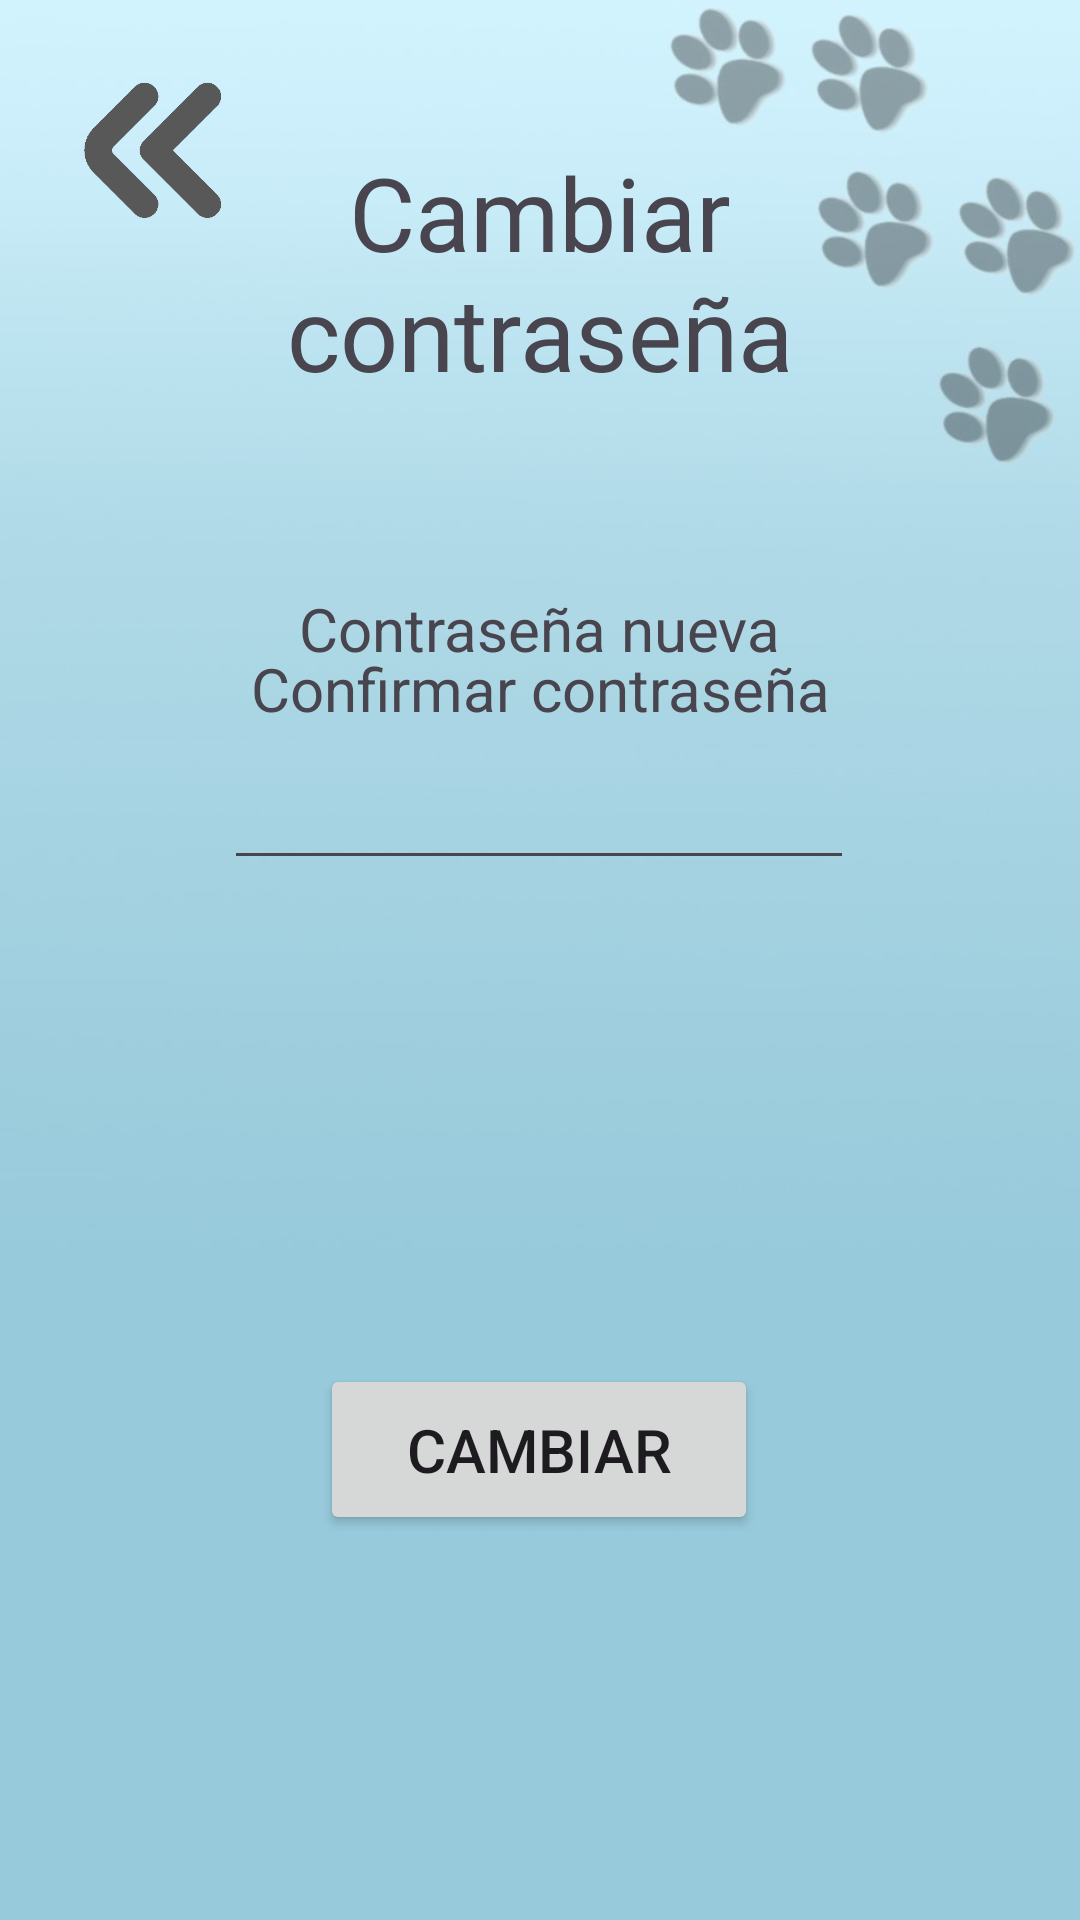

Screen size 1080px×1920px. Icon name, then its center in pixels as [x,y]:
regresar: [152,150]
